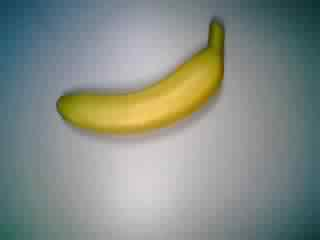banana: (54, 19, 230, 137)
